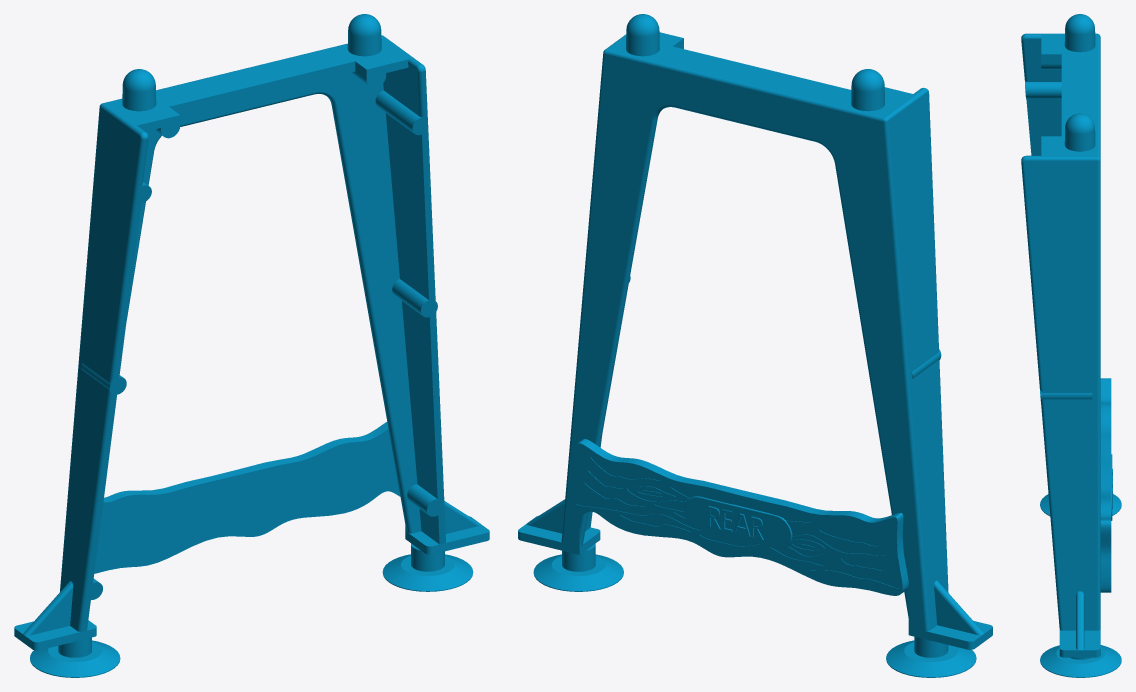
File: TRUSS - REAR.fbx
3 views of the same model, side by side, from view 1: azimuth 30°, elevation 25°; view 2: azimuth 150°, elevation 25°; view 3: azimuth 270°, elevation 25° (orthographic). The views are drawn at different scales.
Visible parts, largest first — view 1: TRUSS - REAR; view 2: TRUSS - REAR; view 3: TRUSS - REAR.
Boxes of the visible parts, x1=… form: TRUSS - REAR: x1=14, y1=14, x2=489, y2=677; TRUSS - REAR: x1=518, y1=14, x2=992, y2=677; TRUSS - REAR: x1=1021, y1=14, x2=1121, y2=677.
Bounding box in the file's own units: 7.39 × 8.87 × 1.56.
